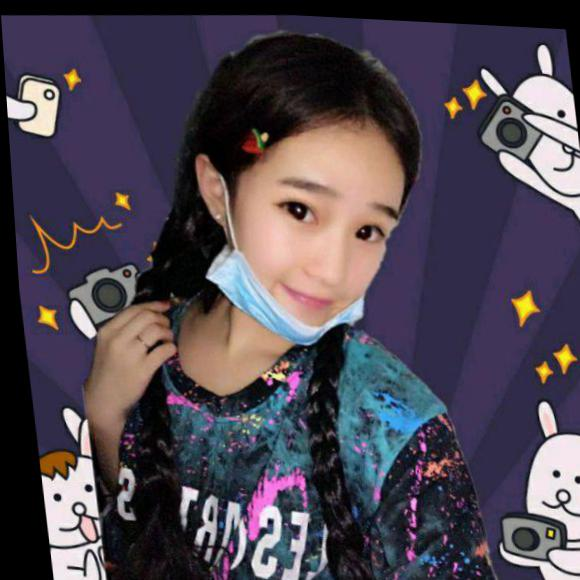WRONG: (218, 141, 413, 346)
